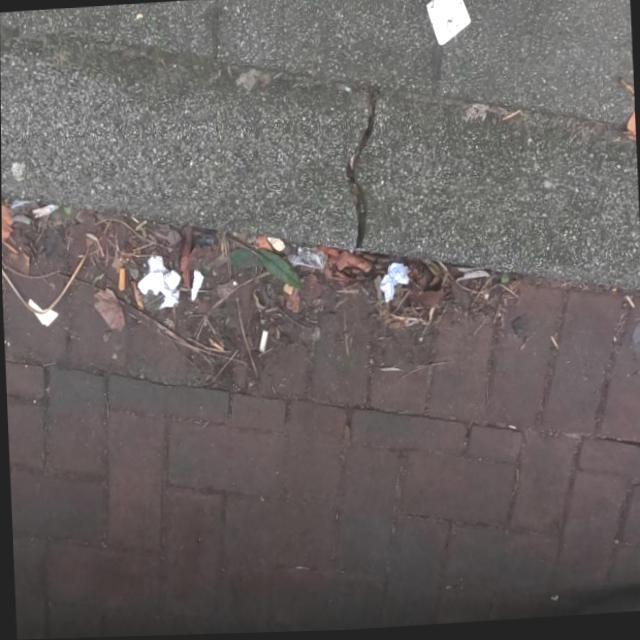Paper: (134, 251, 180, 311), (423, 0, 471, 48), (188, 268, 203, 302)
Plastic: (376, 262, 408, 306)
